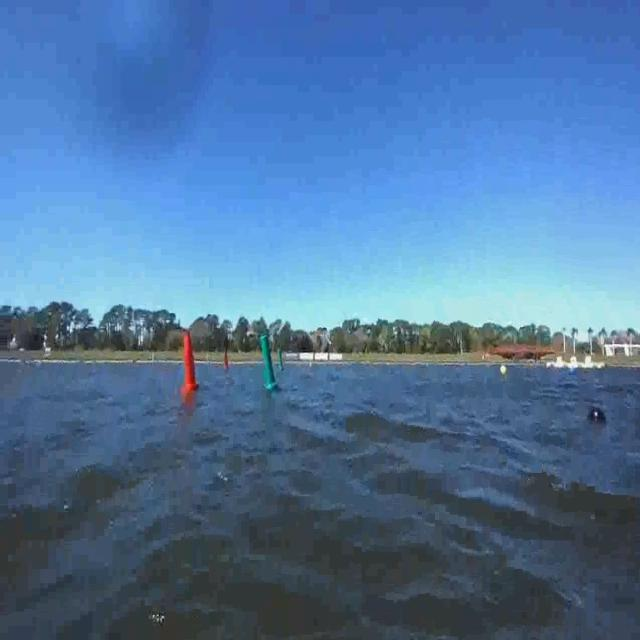black-buoy: (587, 408, 607, 426)
green-column-buoy: (260, 334, 279, 391), (277, 350, 284, 368)
red-column-buoy: (180, 332, 199, 392), (223, 353, 230, 369)
yellow-buoy: (499, 363, 508, 377)
